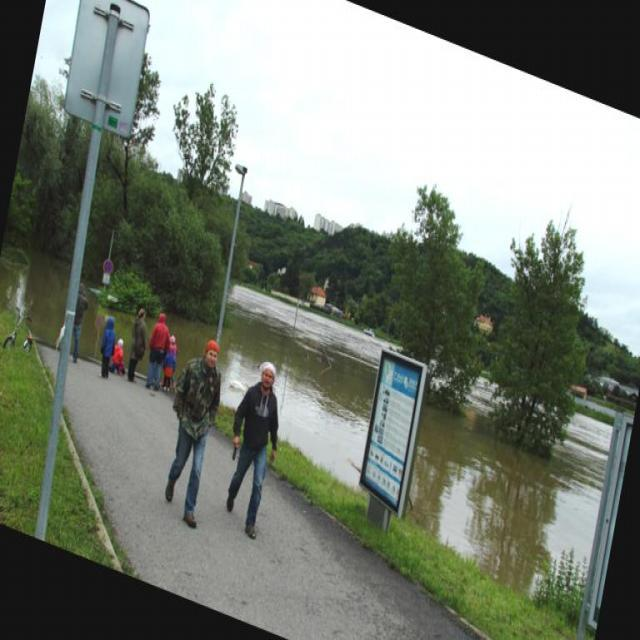flood: (201, 295, 598, 600)
